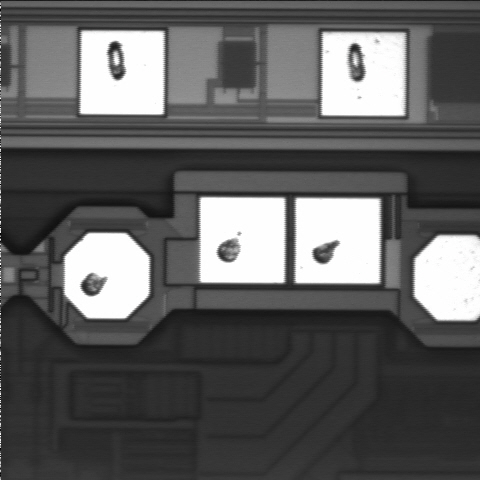pad: (200, 197, 285, 283), (296, 198, 380, 283), (65, 233, 149, 318), (81, 31, 164, 114), (322, 33, 405, 116)
